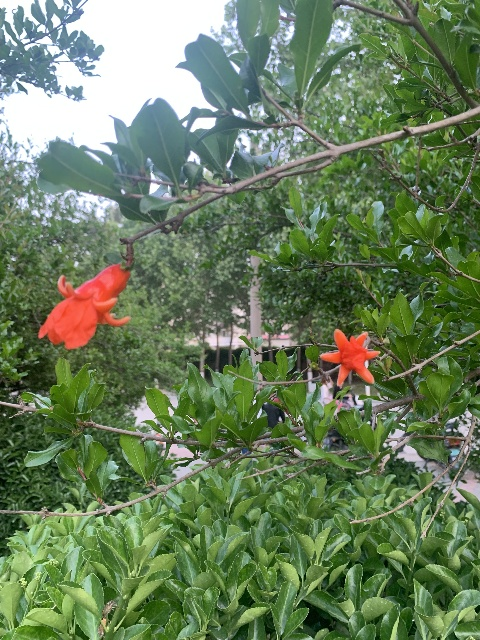bud: (273, 397, 282, 405)
flower: (38, 263, 131, 350), (320, 328, 380, 386)
